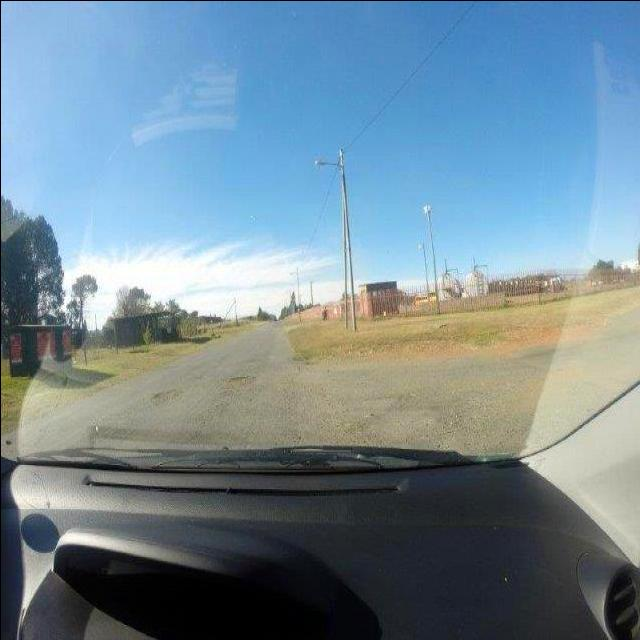lubang: (143, 381, 188, 406), (226, 372, 253, 387)
